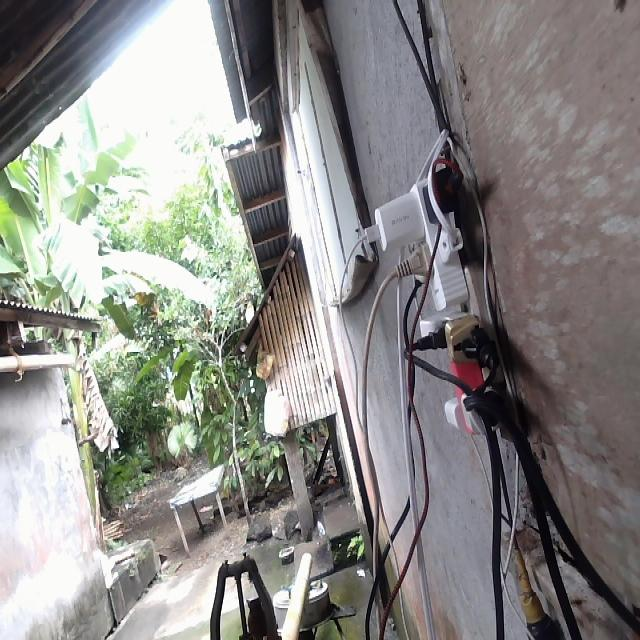-: (358, 159, 513, 433)
